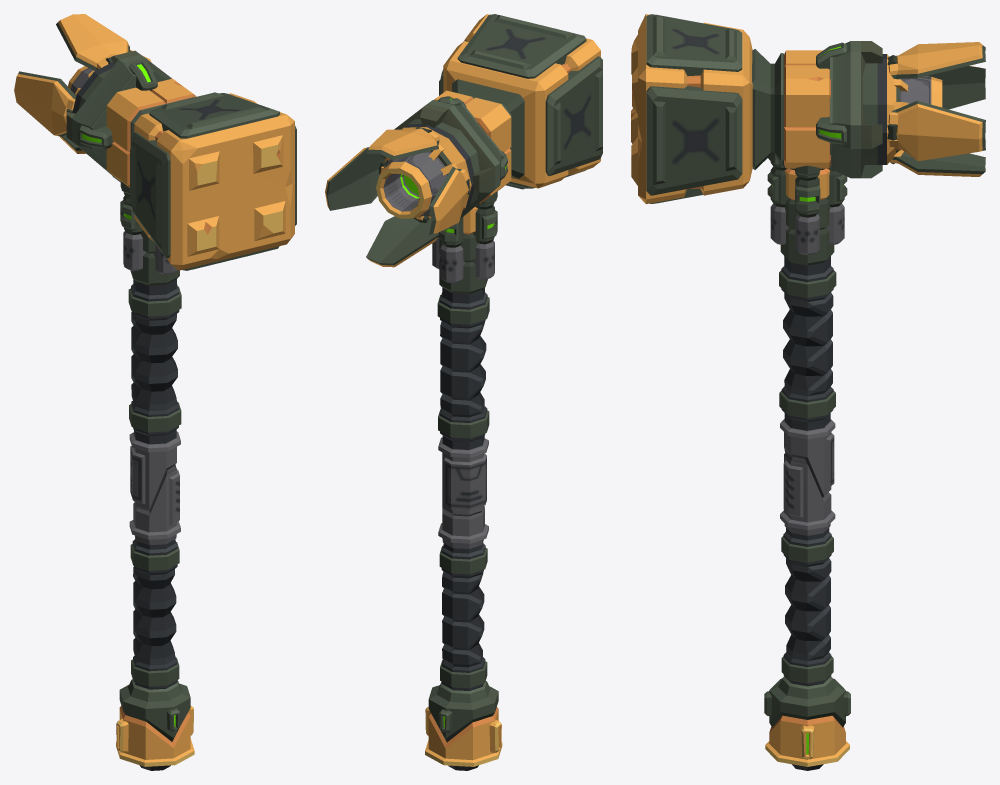
File: SM_Wep_Hammer_01.fbx
The picture shows the model from 3 angles, left to right: view 1: azimuth 30°, elevation 25°; view 2: azimuth 150°, elevation 25°; view 3: azimuth 270°, elevation 25°; orthographic projection. The views are drawn at different scales.
Parts seen in each view (by area): view 1: SM_Wep_Hammer_01; view 2: SM_Wep_Hammer_01; view 3: SM_Wep_Hammer_01.
Boxes of the visible parts, x1,y1,x2,y2 form: SM_Wep_Hammer_01: (14,14,296,770); SM_Wep_Hammer_01: (325,14,602,770); SM_Wep_Hammer_01: (631,14,985,770).
Size of the model in its own units: 82.29 by 399 by 176.
